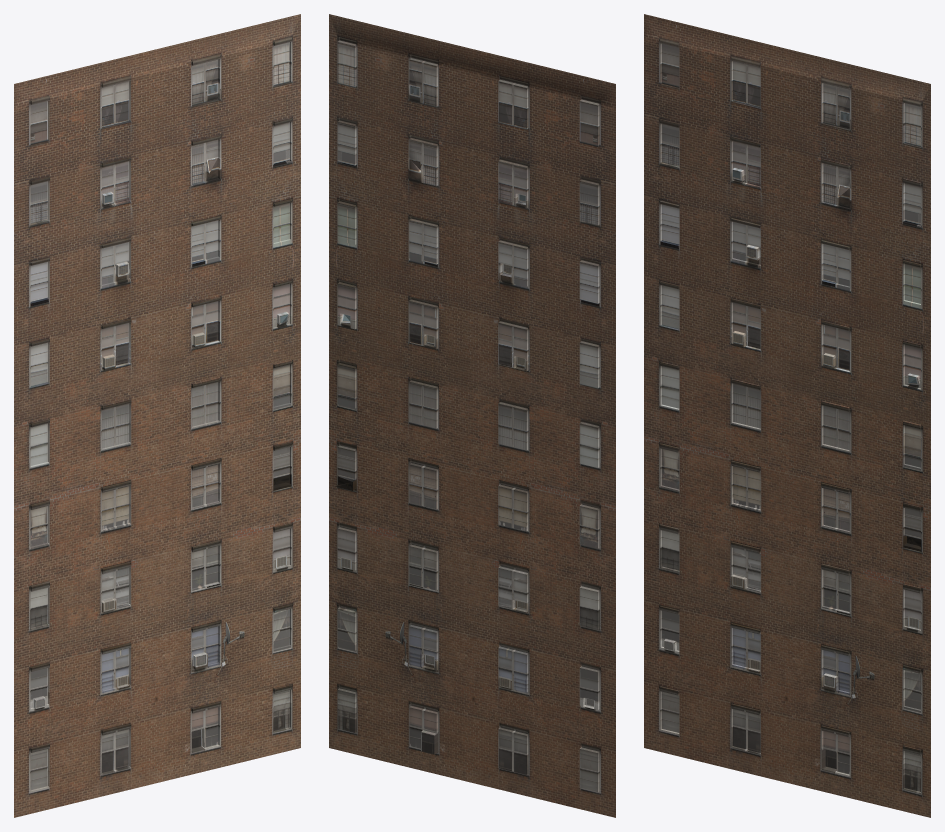
Rendered from Building_1.FBX.
The picture shows the model from 3 angles, left to right: view 1: azimuth 30°, elevation 25°; view 2: azimuth 150°, elevation 25°; view 3: azimuth 330°, elevation 25°; orthographic projection.
Parts seen in each view (by area): view 1: Box003; view 2: Box003; view 3: Box003.
Boxes of the visible parts, left/top/right/bottom form: Box003: left=14, top=14, right=300, bottom=817; Box003: left=329, top=14, right=615, bottom=817; Box003: left=644, top=14, right=930, bottom=817.
Bounding box in the file's own units: 10.8 × 26.4 × 0.2847.
1 material, 1 textured.
